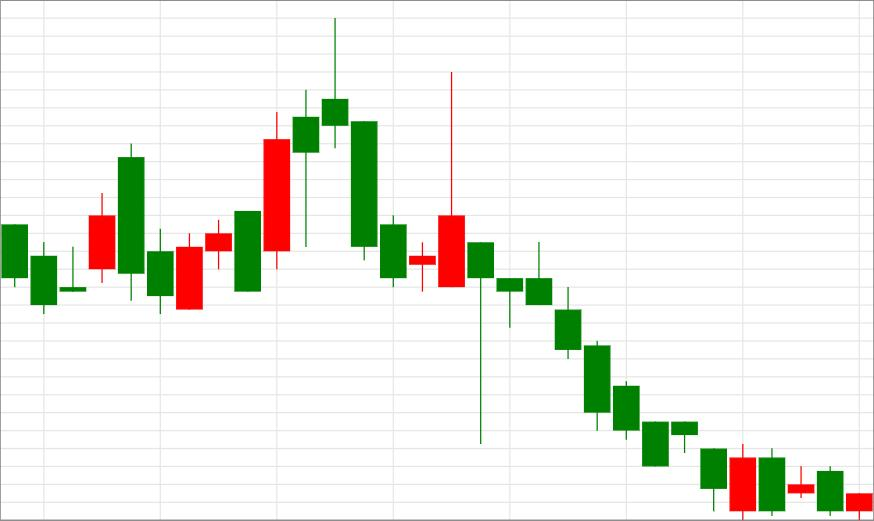shooting_star_fall: (176, 18, 348, 311)
